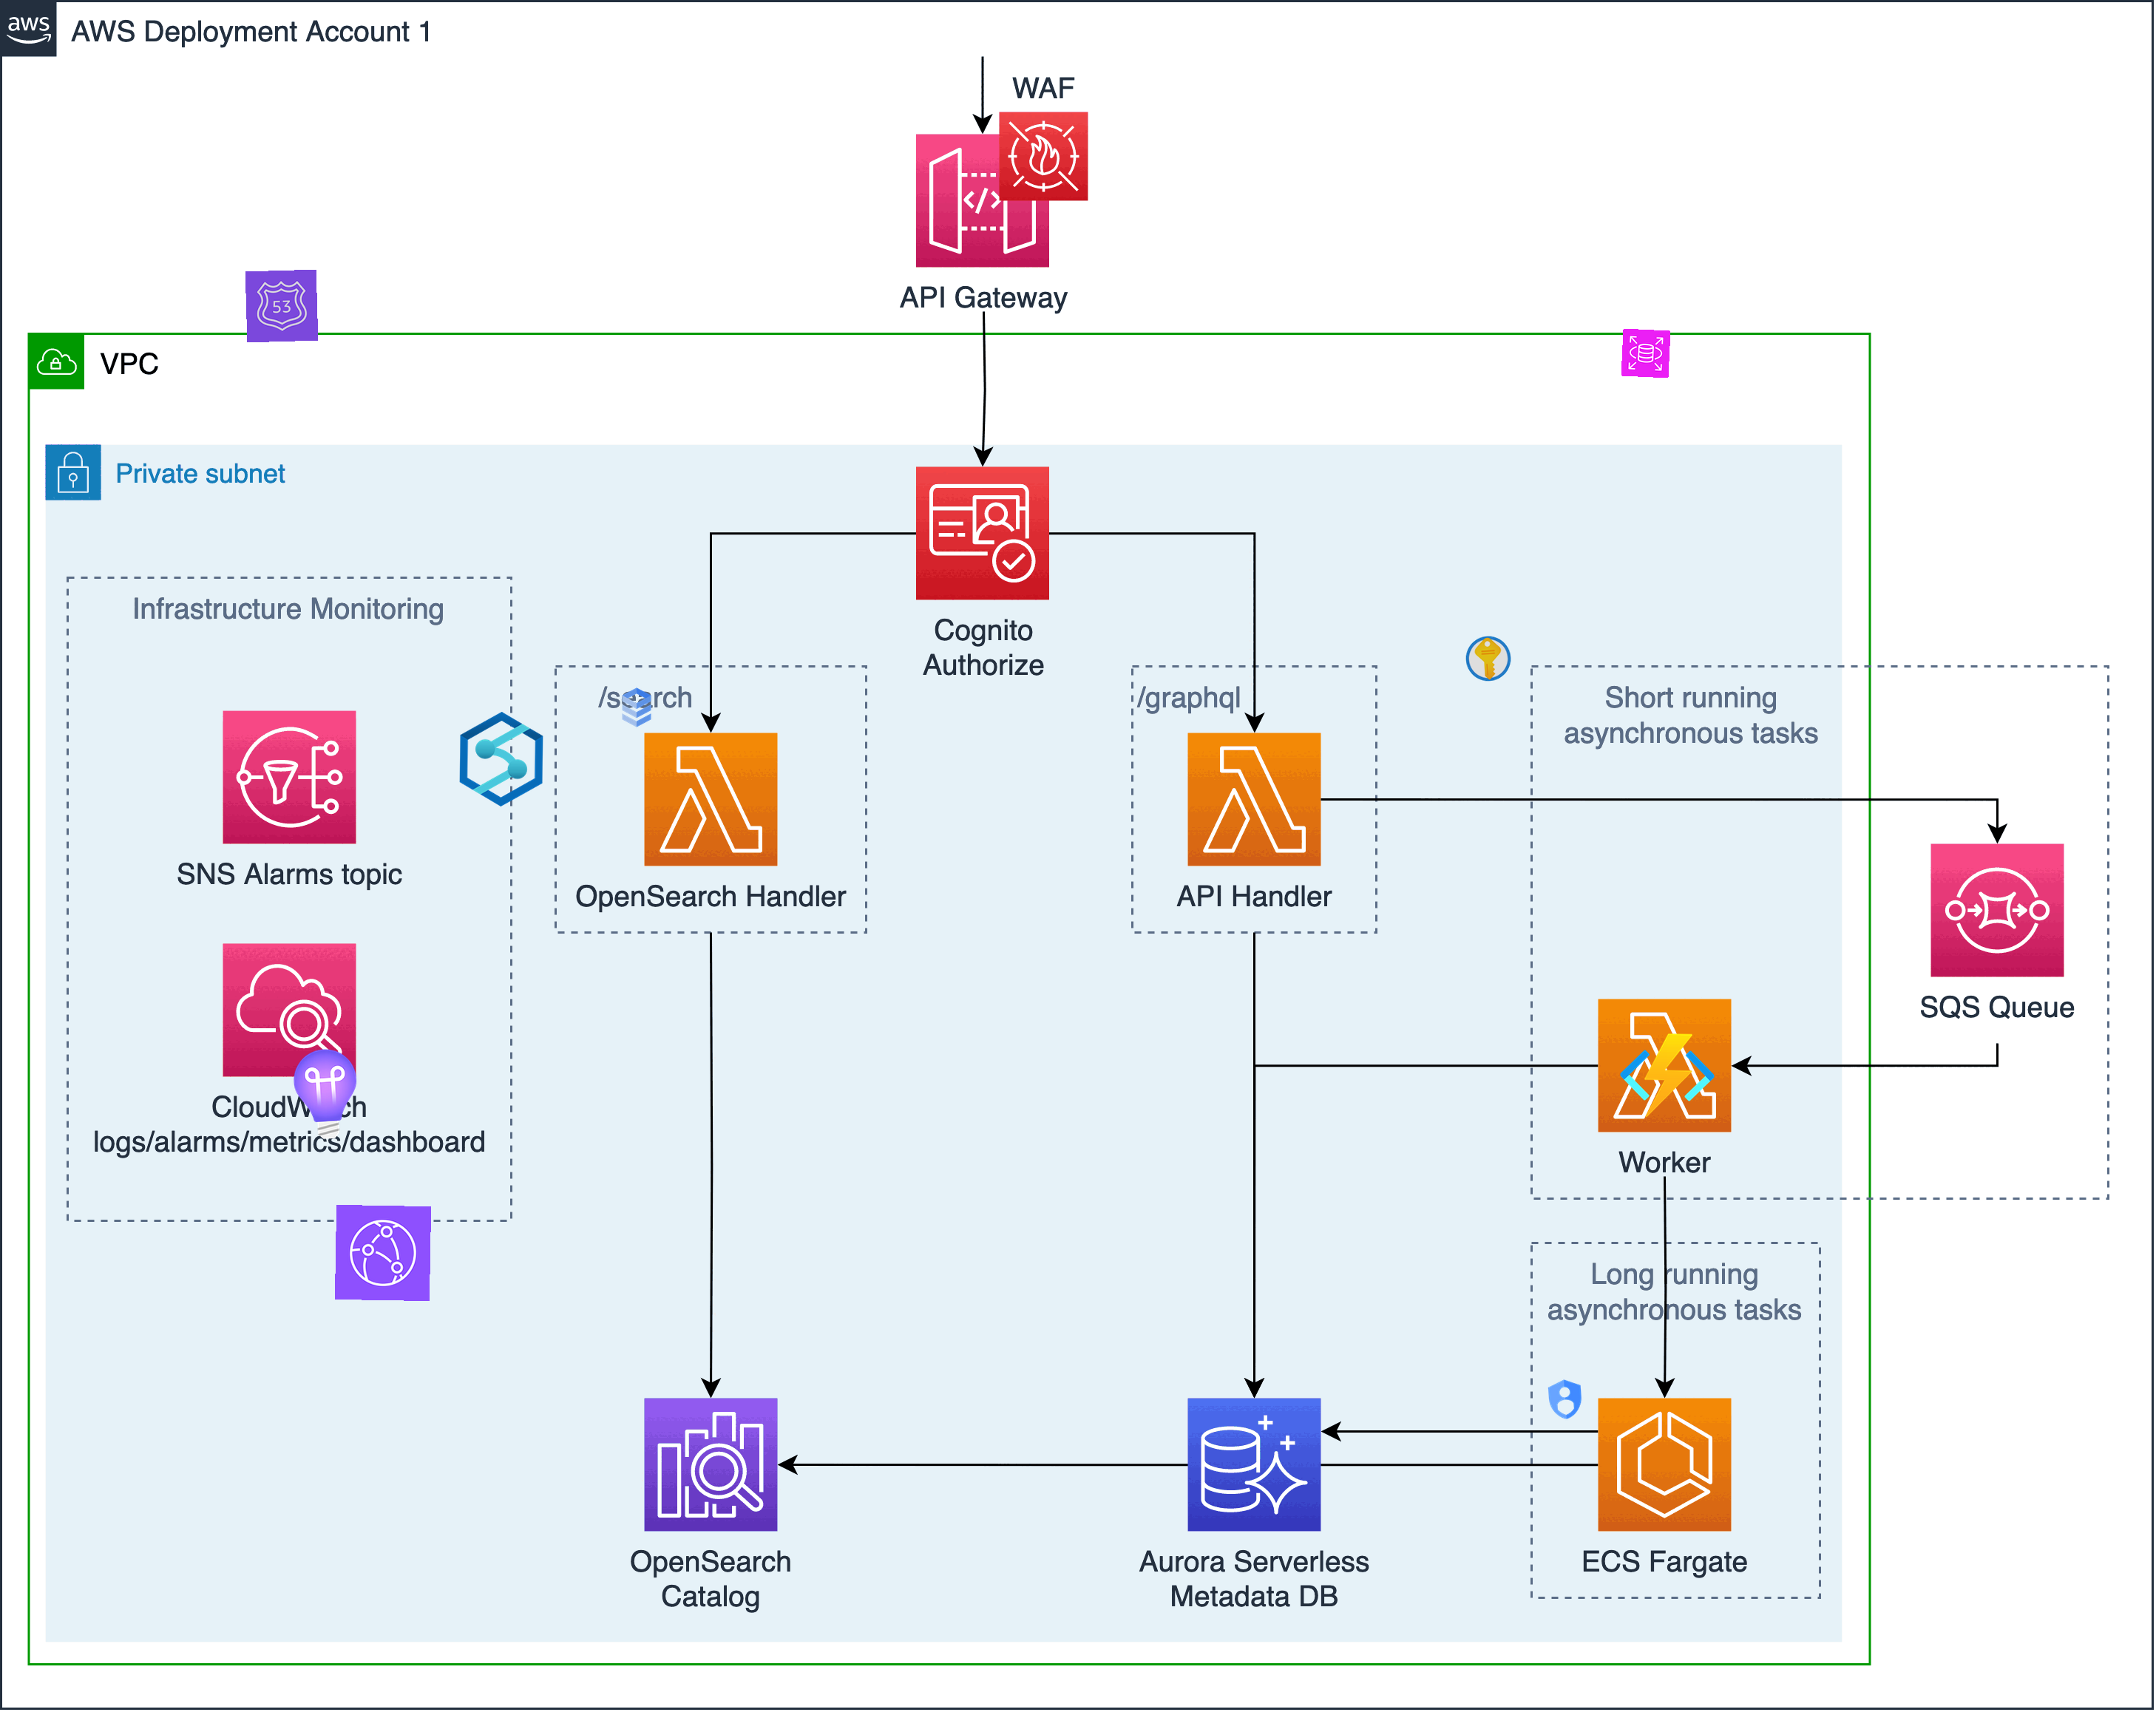aws_amazon_cloudfront: (334, 1205, 432, 1301)
aws_amazon_rds: (1620, 329, 1671, 378)
aws_amazon_route_53: (245, 269, 318, 343)
azure_application_insights: (275, 1042, 376, 1145)
azure_function_apps: (1619, 1027, 1717, 1124)
azure_key_vaults: (1463, 633, 1514, 684)
azure_synapse_analytics: (453, 712, 549, 808)
gcp_cloud_sql: (613, 684, 661, 731)
gcp_identity_and_access_management: (1540, 1373, 1591, 1425)
